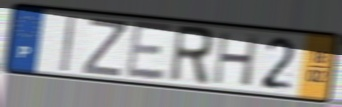2: (261, 35, 297, 93)
E: (124, 18, 175, 82)
H: (211, 30, 262, 89)
I: (59, 13, 77, 74)
R: (167, 23, 216, 89)
Z: (80, 15, 129, 79)
